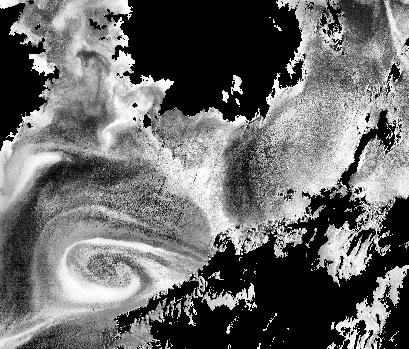CE: (30, 204, 146, 316)
